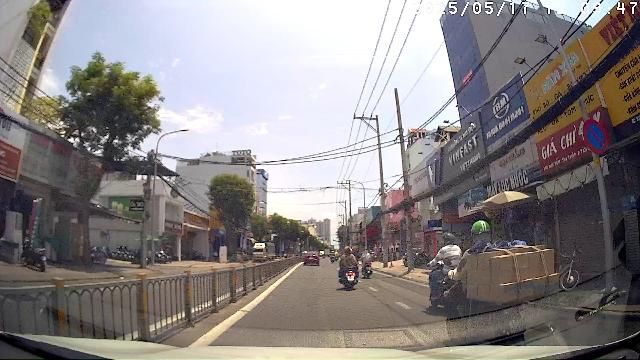131a-cam-do-xe: (582, 118, 608, 154)
